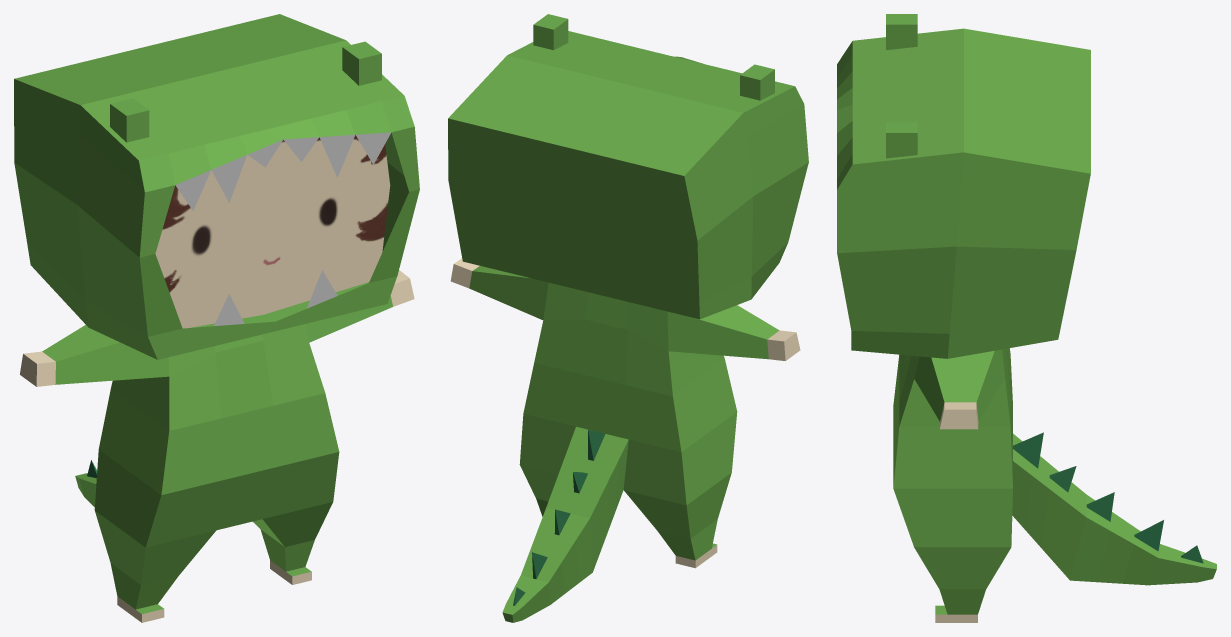
File: kid.fbx
3 renders of one model, left to right at view 1: azimuth 30°, elevation 25°; view 2: azimuth 150°, elevation 25°; view 3: azimuth 270°, elevation 25°, orthographic. The views are drawn at different scales.
Visible parts, largest first — view 1: Cube; view 2: Cube; view 3: Cube.
Part boxes in pixels (left/top/right/bottom): Cube: left=14, top=14, right=419, bottom=622; Cube: left=448, top=14, right=808, bottom=622; Cube: left=837, top=14, right=1216, bottom=622.
Size of the model in its own units: 253 by 344 by 232.
